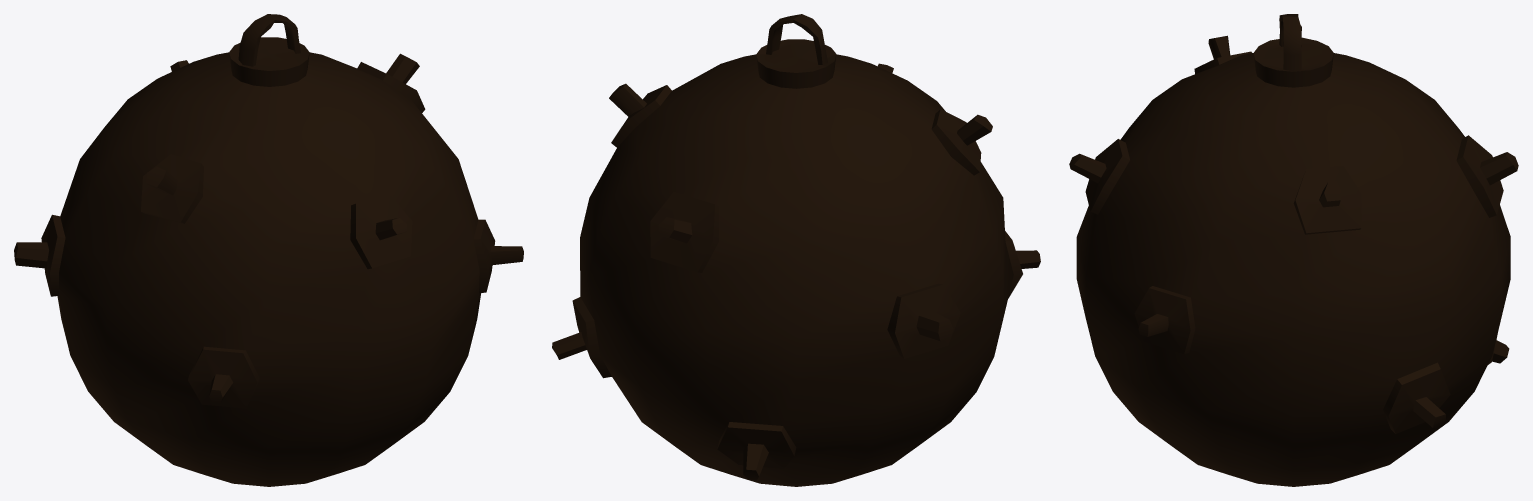
The model's file is mod_seamine_v1.fbx.
The picture shows the model from 3 angles, left to right: view 1: azimuth 30°, elevation 25°; view 2: azimuth 150°, elevation 25°; view 3: azimuth 270°, elevation 25°; orthographic projection.
Parts seen in each view (by area): view 1: pSphere2; view 2: pSphere2; view 3: pSphere2.
Part boxes in pixels (x1,y1,x2,y2): pSphere2: (14,14,523,486); pSphere2: (552,14,1040,486); pSphere2: (1069,14,1518,486).
Size of the model in its own units: 0.2074 by 0.2262 by 0.2047.
